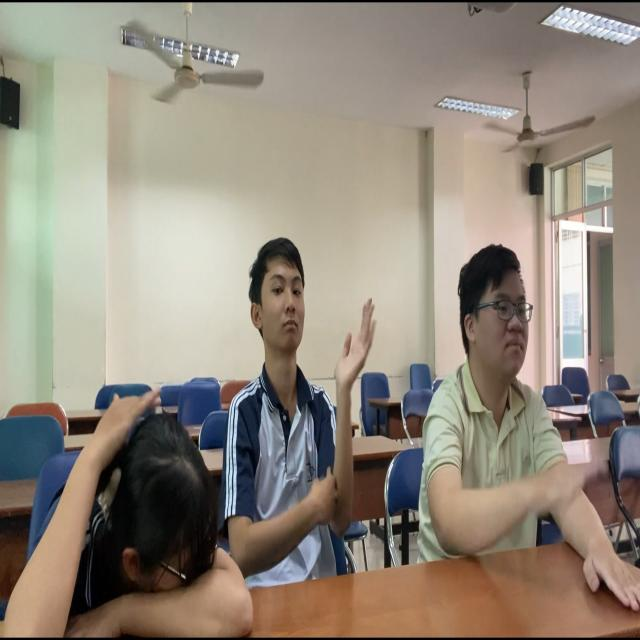sleep: (1, 360, 264, 640)
